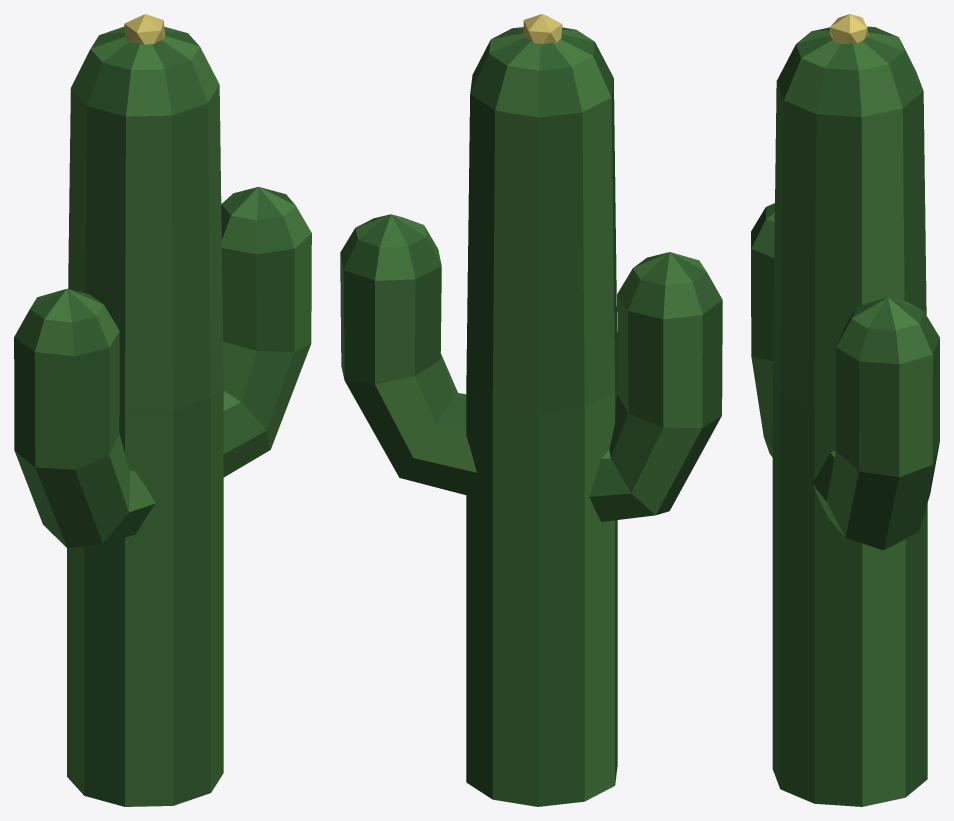
File: Tree_Saguaro_B.glb
The picture shows the model from 3 angles, left to right: view 1: azimuth 30°, elevation 25°; view 2: azimuth 150°, elevation 25°; view 3: azimuth 270°, elevation 25°; orthographic projection.
Visible parts, largest first — view 1: Tree_Saguaro_B; view 2: Tree_Saguaro_B; view 3: Tree_Saguaro_B.
Part boxes in pixels (<box>): Tree_Saguaro_B: <box>14,14,311,806</box>; Tree_Saguaro_B: <box>340,14,722,806</box>; Tree_Saguaro_B: <box>751,14,939,806</box>.
Bounding box in the file's own units: 1.5 × 3.36 × 0.7574.
